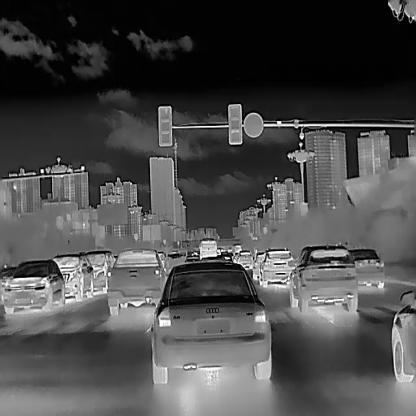car: (145, 262, 271, 384), (288, 244, 359, 311), (106, 247, 165, 314), (3, 257, 65, 314), (390, 289, 416, 382), (52, 253, 94, 300), (348, 245, 385, 287), (81, 250, 115, 294), (259, 246, 295, 287), (199, 236, 216, 257), (236, 249, 253, 267)
